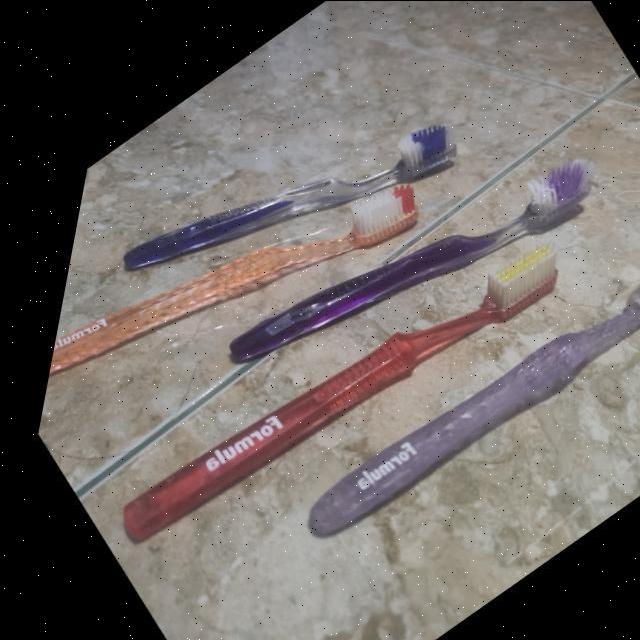toothbrush: (74, 192, 596, 606), (23, 97, 449, 483), (51, 6, 490, 370), (170, 96, 618, 452), (262, 194, 640, 586)
